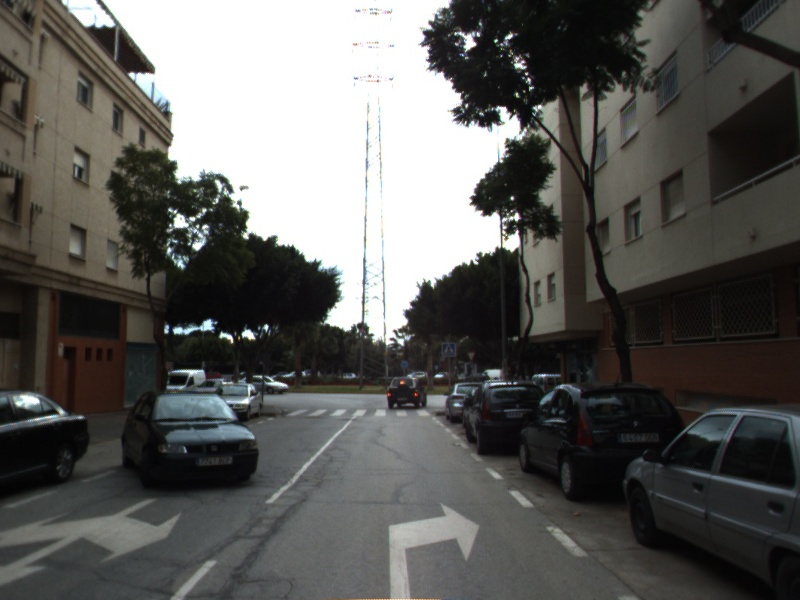RIGHT: (386, 499, 483, 600)
